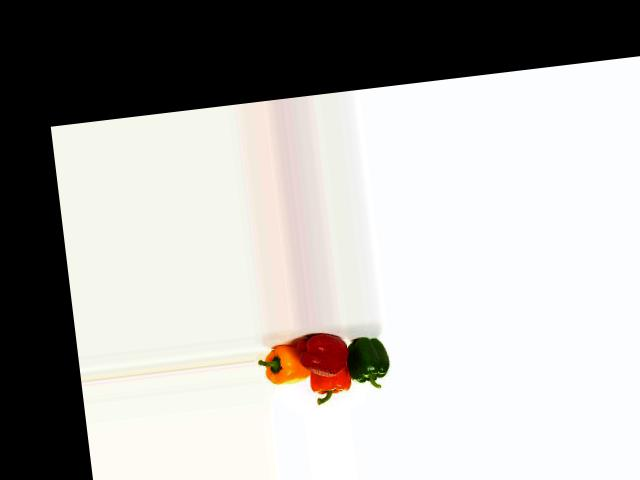bell_pepper: (341, 327, 392, 388)
